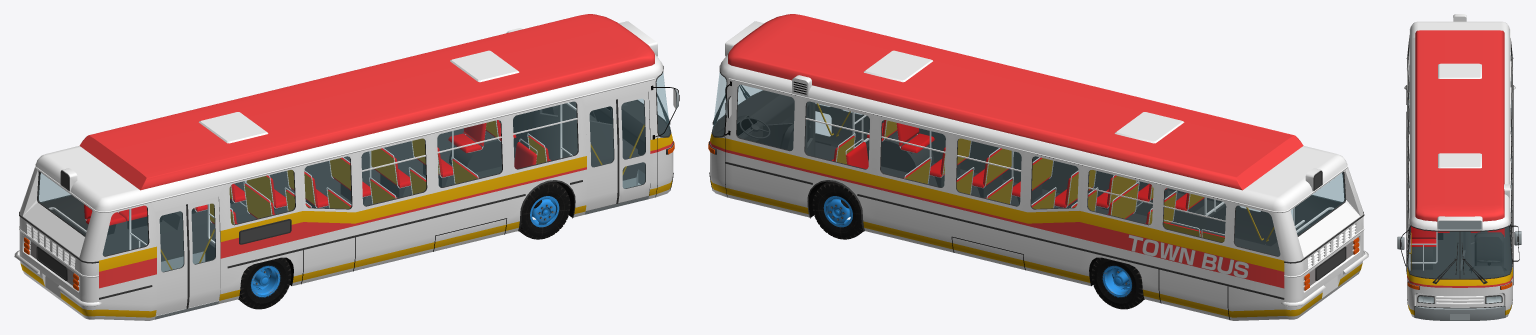
The model's file is bus.glb.
The picture shows the model from 3 angles, left to right: view 1: azimuth 30°, elevation 25°; view 2: azimuth 150°, elevation 25°; view 3: azimuth 270°, elevation 25°; orthographic projection. The views are drawn at different scales.
Visible parts, largest first — view 1: Object_23, Object_32, Object_14, Object_20, Object_31, Object_25, Object_33, Object_22, Object_21, Object_8, Object_30, Object_10 (+4 smaller); view 2: Object_23, Object_32, Object_14, Object_31, Object_20, Object_25, Object_33, Object_21, Object_22, Object_9, Object_30, Object_12 (+4 smaller); view 3: Object_32, Object_23, Object_14, Object_20, Object_21, Object_15, Object_31, Object_24, Object_25, Object_22, Object_30, Object_3 (+8 smaller).
Boxes of the visible parts, x1=… form: Object_23: x1=19, y1=28, x2=673, y2=320; Object_32: x1=79, y1=14, x2=673, y2=288; Object_14: x1=38, y1=73, x2=670, y2=271; Object_20: x1=41, y1=89, x2=676, y2=272; Object_31: x1=20, y1=133, x2=672, y2=317; Object_25: x1=40, y1=92, x2=650, y2=234; Object_33: x1=160, y1=120, x2=644, y2=269; Object_22: x1=84, y1=120, x2=550, y2=225; Object_21: x1=19, y1=66, x2=679, y2=308; Object_8: x1=519, y1=181, x2=570, y2=239; Object_30: x1=14, y1=78, x2=654, y2=306; Object_10: x1=238, y1=257, x2=291, y2=309; Object_23: x1=710, y1=50, x2=1363, y2=320; Object_32: x1=710, y1=14, x2=1303, y2=288; Object_14: x1=713, y1=73, x2=1344, y2=255; Object_31: x1=710, y1=133, x2=1362, y2=317; Object_20: x1=709, y1=86, x2=1342, y2=256; Object_25: x1=736, y1=101, x2=1342, y2=246; Object_33: x1=816, y1=103, x2=1274, y2=242; Object_21: x1=711, y1=66, x2=1364, y2=299; Object_22: x1=832, y1=120, x2=1224, y2=237; Object_9: x1=812, y1=181, x2=863, y2=239; Object_30: x1=728, y1=78, x2=1368, y2=306; Object_12: x1=1091, y1=257, x2=1144, y2=309; Object_32: x1=1407, y1=30, x2=1512, y2=287; Object_23: x1=1407, y1=14, x2=1512, y2=317; Object_14: x1=1408, y1=96, x2=1511, y2=302; Object_20: x1=1407, y1=35, x2=1520, y2=303; Object_21: x1=1400, y1=58, x2=1518, y2=285; Object_15: x1=1408, y1=158, x2=1511, y2=320; Object_31: x1=1407, y1=267, x2=1512, y2=315; Object_24: x1=1409, y1=61, x2=1511, y2=295; Object_25: x1=1408, y1=47, x2=1511, y2=270; Object_22: x1=1410, y1=226, x2=1504, y2=246; Object_30: x1=1404, y1=28, x2=1515, y2=224; Object_3: x1=1438, y1=221, x2=1481, y2=229.
Bounding box in the file's own units: 131 × 32.36 × 31.86.
Materials: 20 (3 with a texture image).
